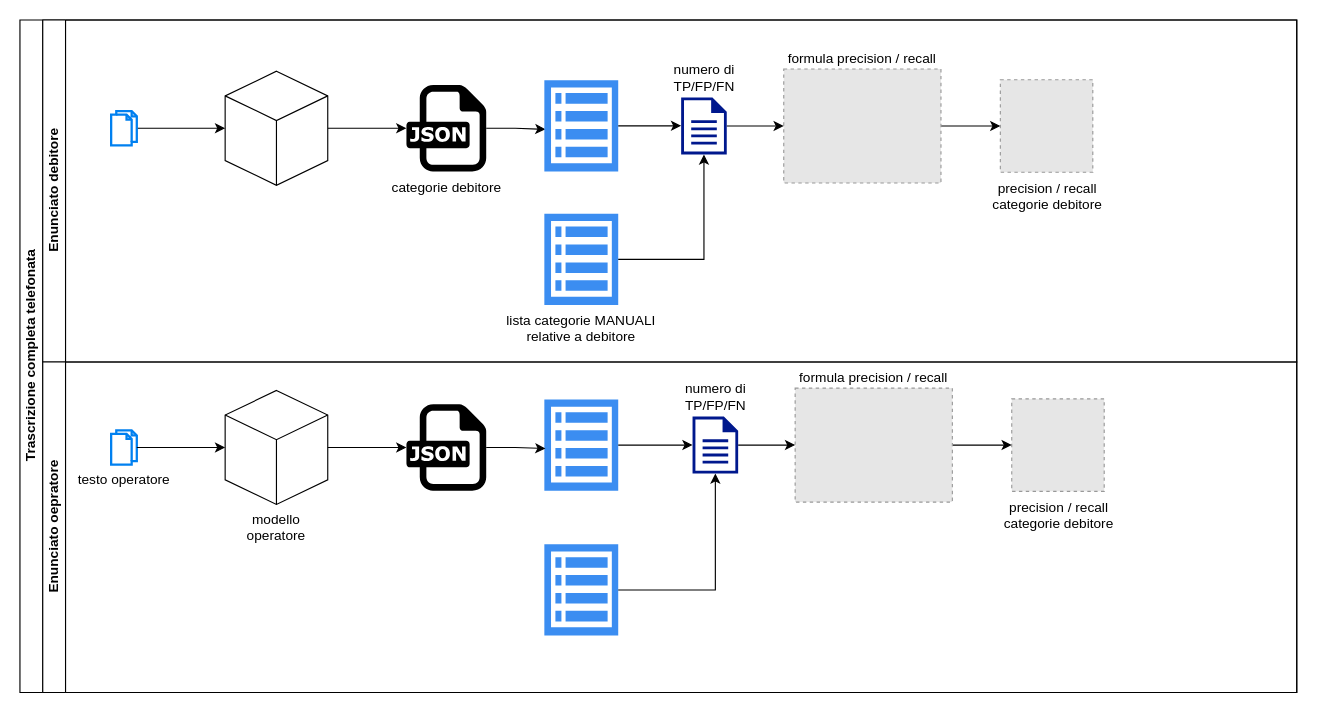
This 1317x713 diagram has some shape labels left out. Grey dashed boxes stand in for pictures. The shapes that lost their labels are listed below. From the top down, each one's centre as x and y in pixels, then its label:
point (123, 127): testo debitore
point (276, 127): modello debitore
point (581, 125): lista categorie relative a debitore
point (445, 447): categorie operatore
point (581, 444): lista categorie relative a operatore
point (581, 589): lista categorie MANUALI relative a operatore
